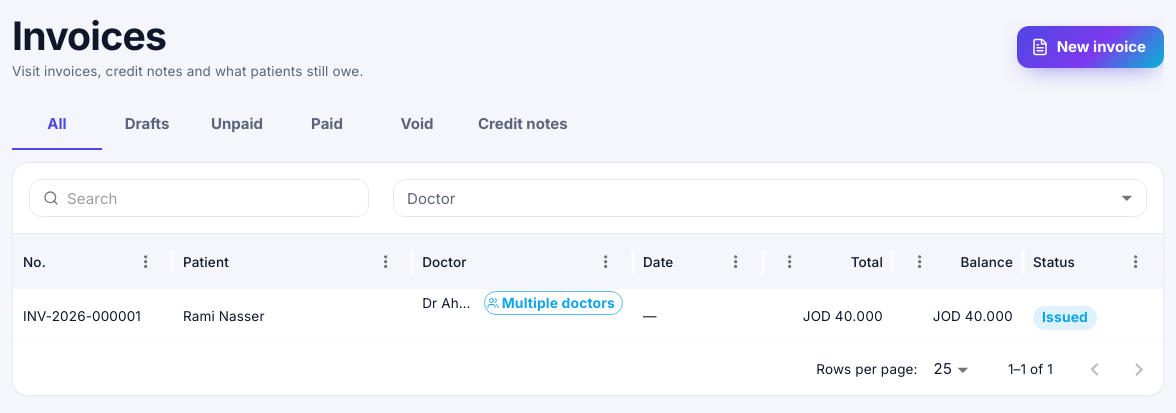
Scenario: doctor filter › selecting a doctor updates the URL filter and the list query
The width and height of the screenshot is (1176, 413).
Click the dropdown named "Doctor": click(770, 198) [393, 179, 1147, 218]
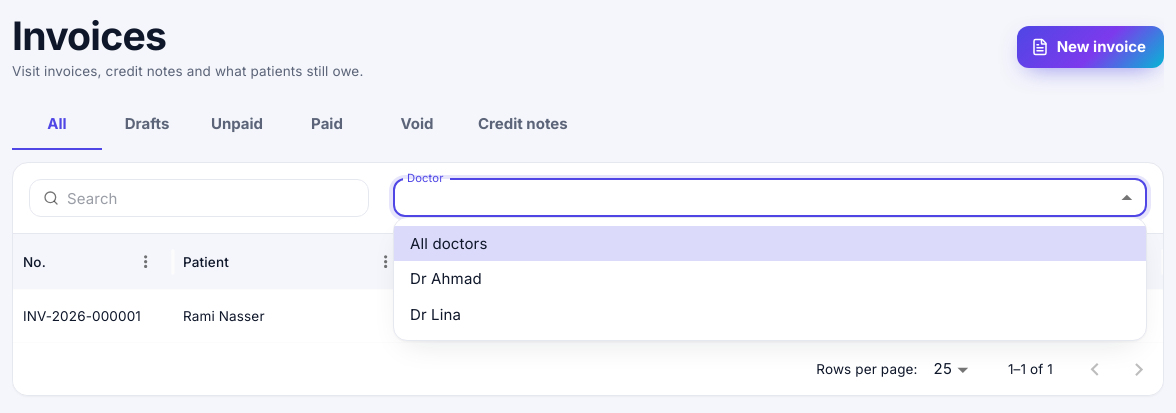
Click the option "Dr Lina": click(436, 314) [410, 304, 461, 324]
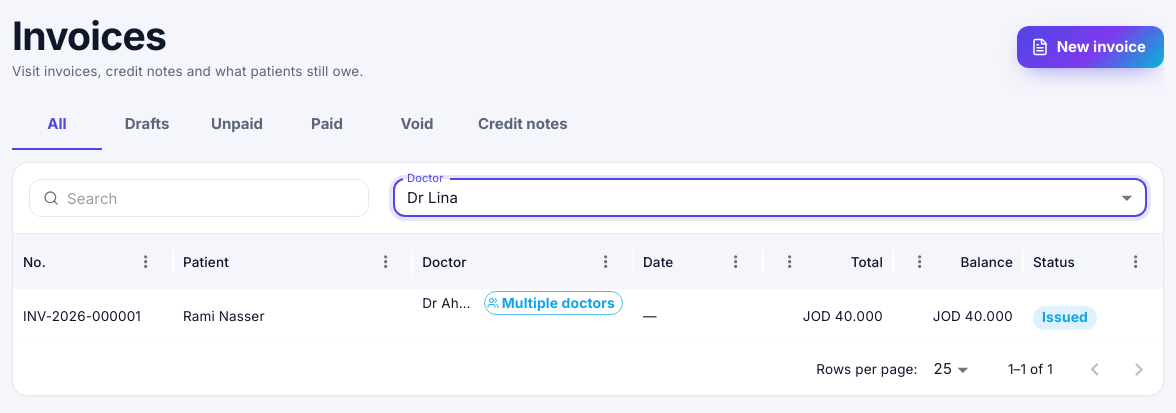
expect the dropdown named "Doctor" reads "Dr Lina": met, box [407, 188, 458, 207]
